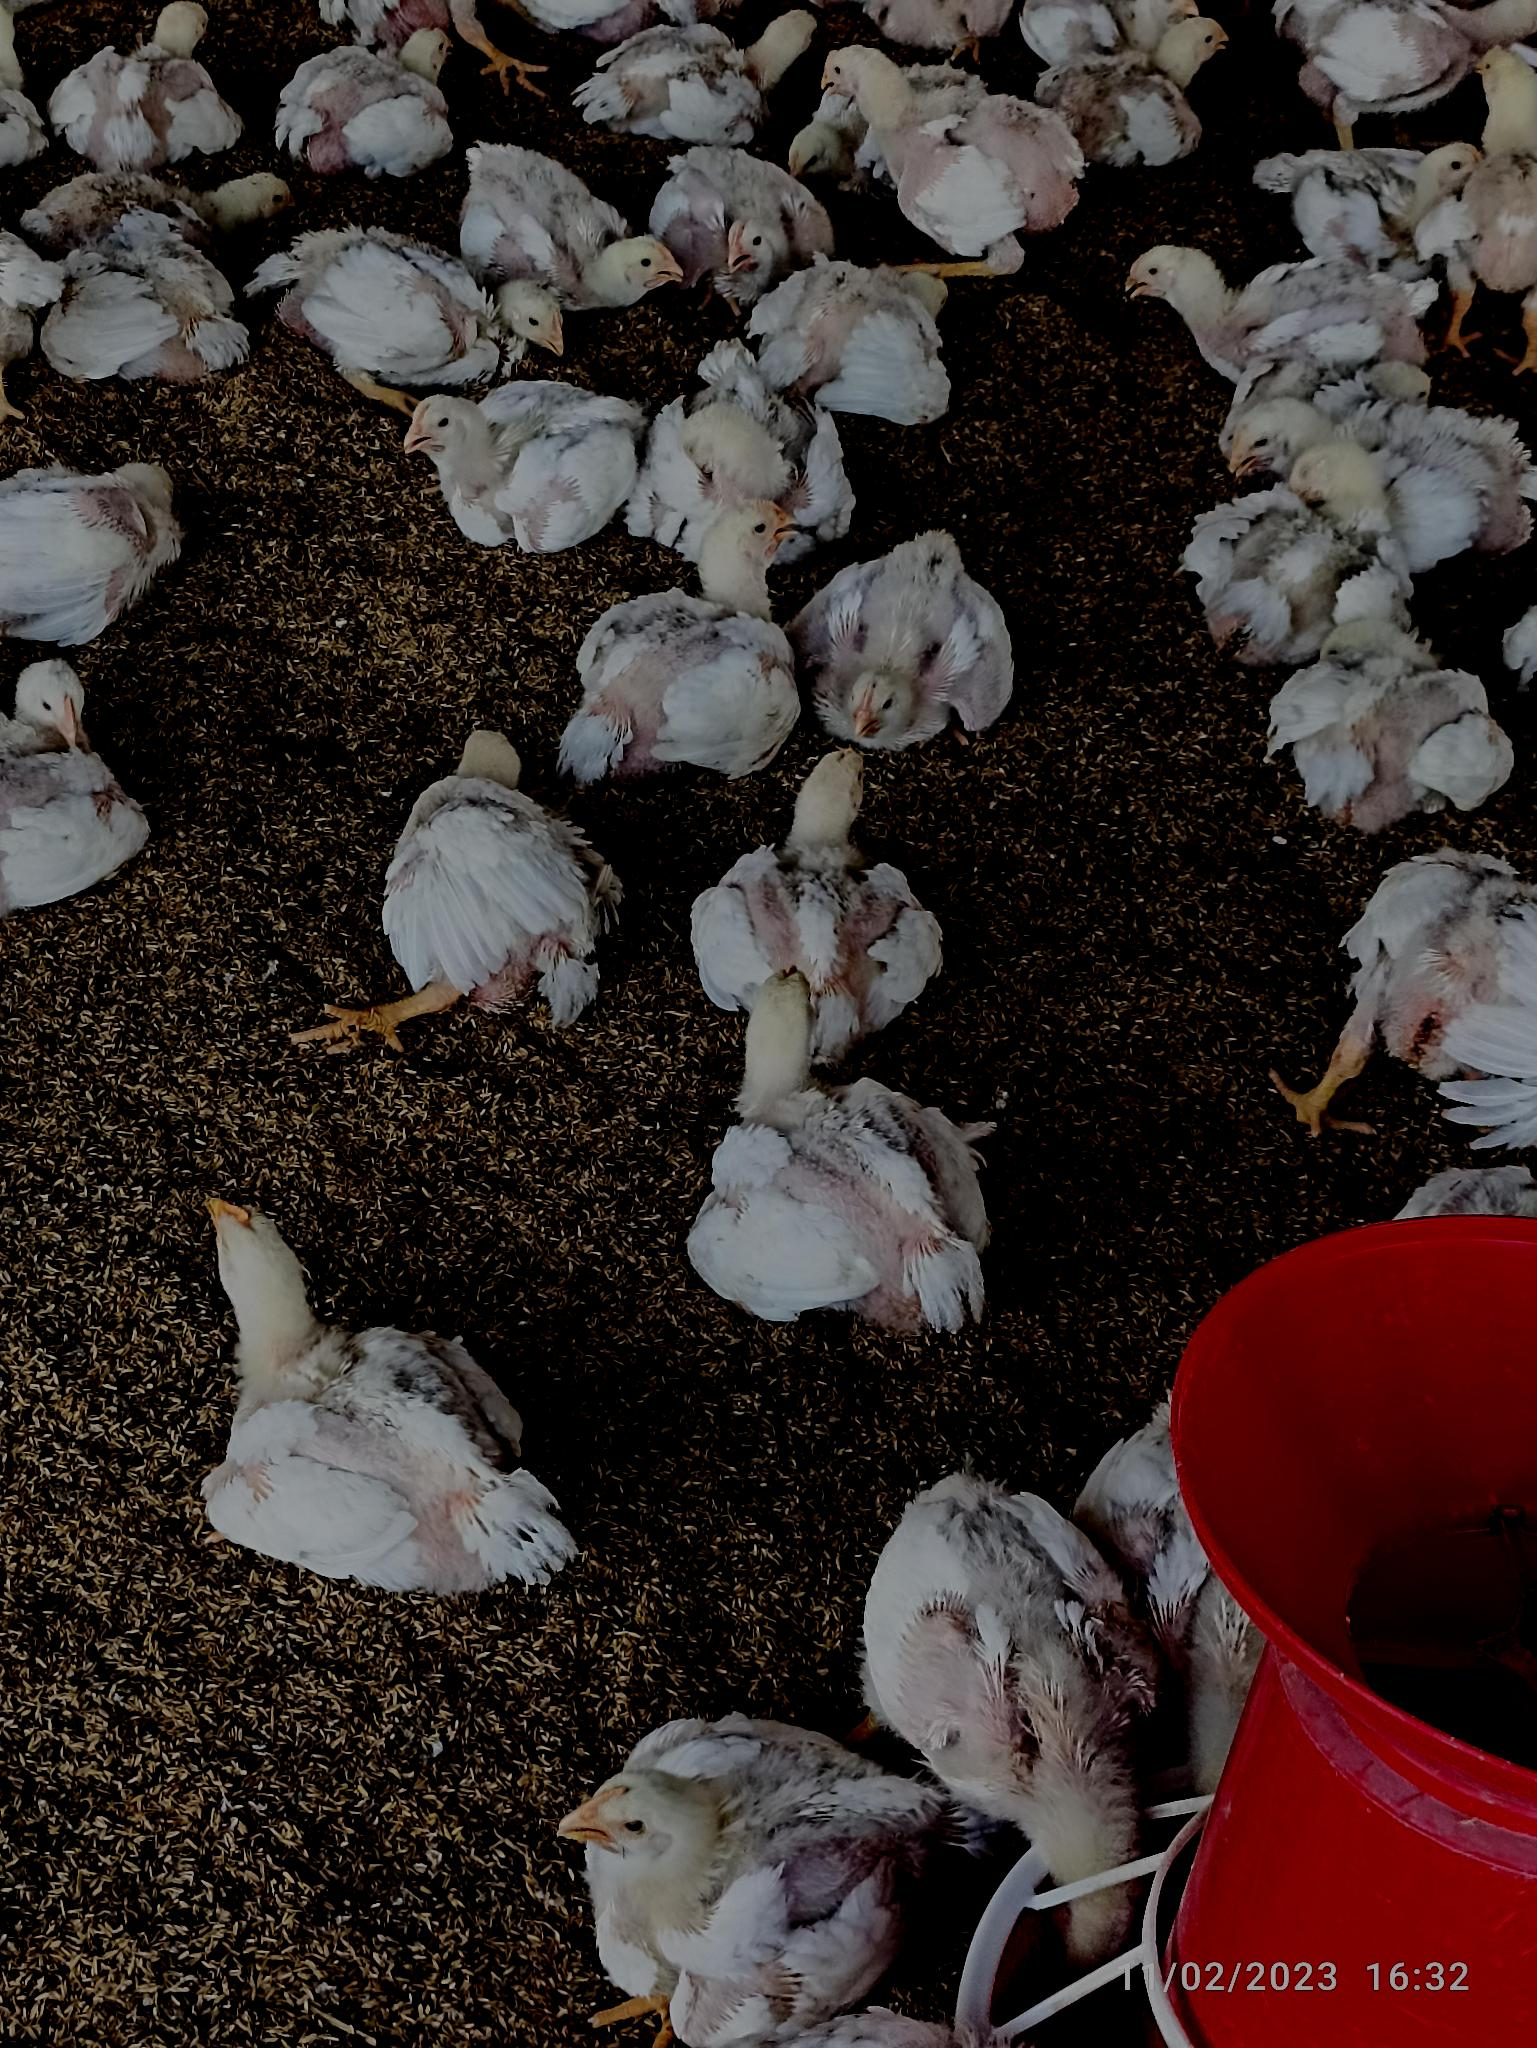Pollos: (213, 1196, 575, 1611), (568, 1711, 936, 2029), (668, 988, 999, 1322), (712, 747, 927, 1038), (378, 725, 601, 1001), (819, 39, 1096, 258), (568, 492, 794, 760), (1204, 399, 1537, 549), (809, 526, 1012, 741), (271, 229, 568, 373), (399, 376, 634, 539), (283, 21, 463, 168), (1137, 242, 1342, 358), (665, 152, 843, 281), (531, 207, 678, 320)
